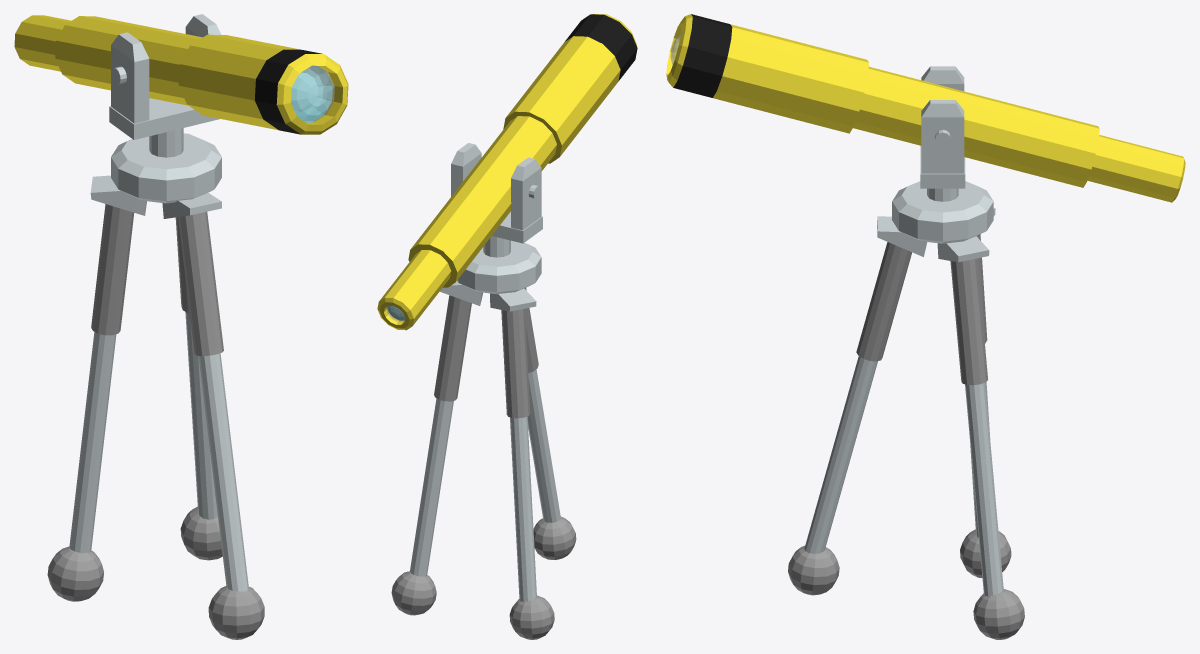
The model's file is telescope.glb.
The picture shows the model from 3 angles, left to right: view 1: azimuth 30°, elevation 25°; view 2: azimuth 150°, elevation 25°; view 3: azimuth 270°, elevation 25°; orthographic projection. The views are drawn at different scales.
Parts seen in each view (by area): view 1: Node; view 2: Node; view 3: Node.
Boxes of the visible parts, x1,y1,x2,y2 form: Node: [14, 14, 348, 639]; Node: [377, 14, 637, 639]; Node: [666, 14, 1185, 639].
Size of the model in its own units: 0.8853 by 2.89 by 2.3.
